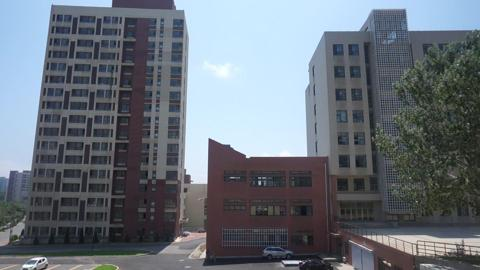UAV: (198, 198, 205, 202)
